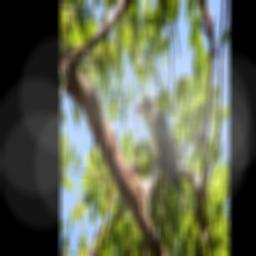Cuckoo: (133, 97, 188, 220)
